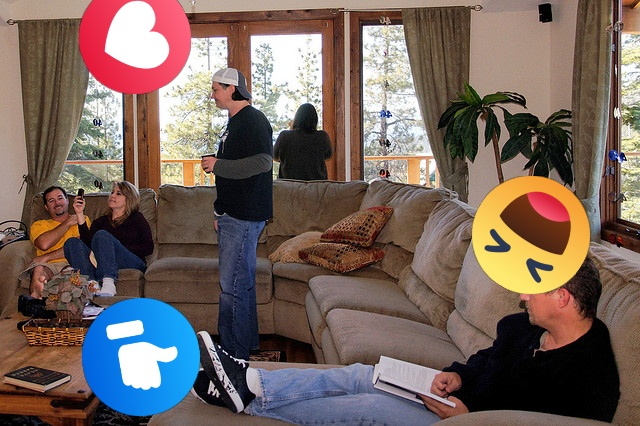haha: (472, 176, 590, 294)
like: (82, 298, 200, 416)
love: (79, 0, 191, 94)
